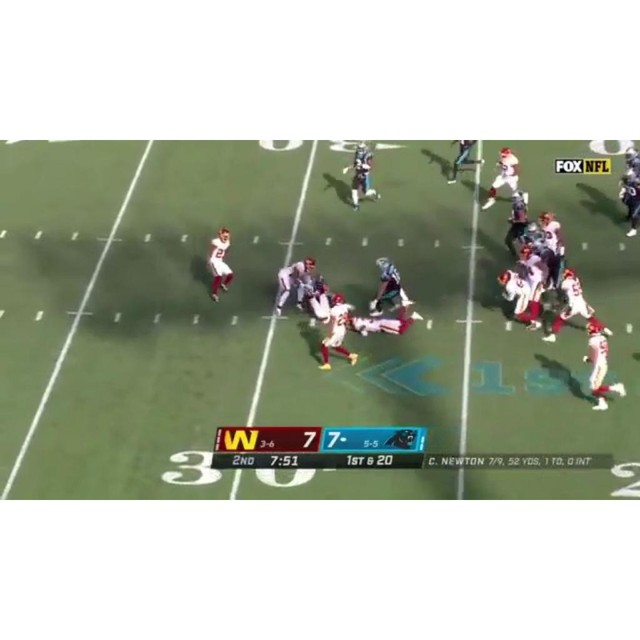american-football-player: (581, 321, 628, 411), (545, 268, 597, 344), (318, 294, 359, 371), (497, 270, 541, 332), (274, 256, 317, 317), (483, 148, 522, 210), (372, 259, 414, 315), (344, 153, 381, 211), (206, 228, 235, 302), (504, 192, 532, 259), (297, 277, 334, 327), (447, 140, 481, 185), (618, 174, 640, 239)
